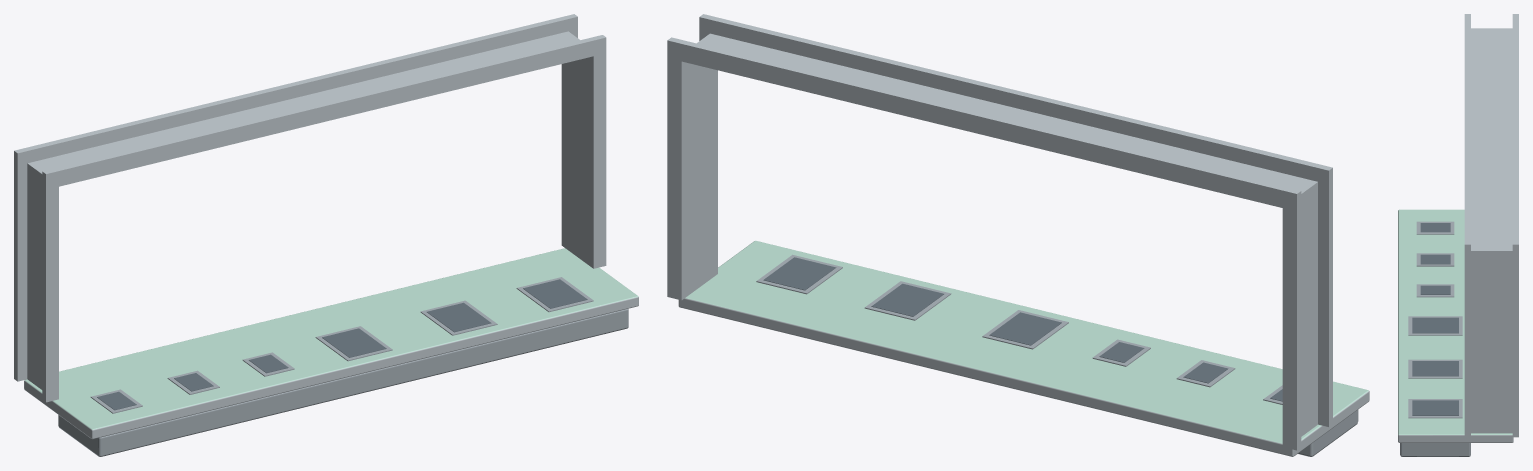
The model's file is SM_StationWindow_Kitchen.glb.
3 views of the same model, side by side, from view 1: azimuth 30°, elevation 25°; view 2: azimuth 150°, elevation 25°; view 3: azimuth 270°, elevation 25° (orthographic). The views are drawn at different scales.
Visible parts, largest first — view 1: Pervaz, Kasa_Sove; view 2: Kasa_Sove, Pervaz; view 3: Kasa_Sove, Pervaz.
Part boxes in pixels (box(x1,y1,x2,y2)): Pervaz: box(24, 248, 638, 456); Kasa_Sove: box(14, 14, 606, 402); Kasa_Sove: box(667, 14, 1332, 450); Pervaz: box(678, 240, 1369, 456); Kasa_Sove: box(1464, 14, 1518, 437); Pervaz: box(1398, 209, 1513, 456).
Size of the model in its own units: 2.62 by 1.16 by 0.58.
Materials: 3 (3 with a texture image).
